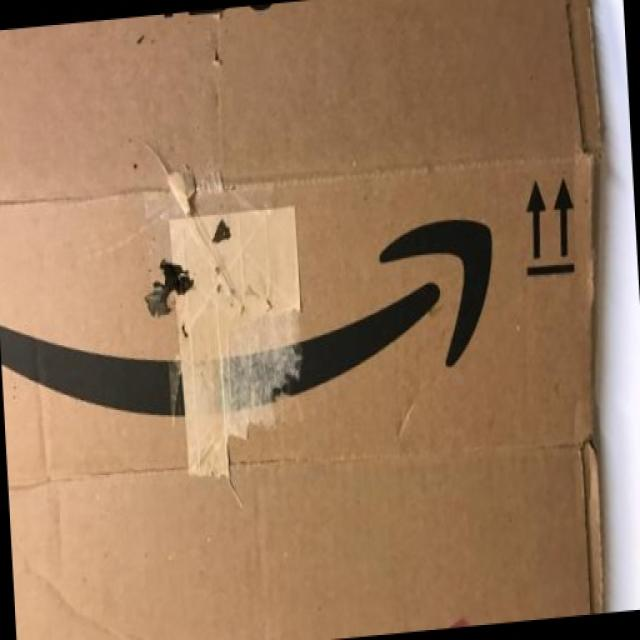carton: (25, 21, 476, 450)
